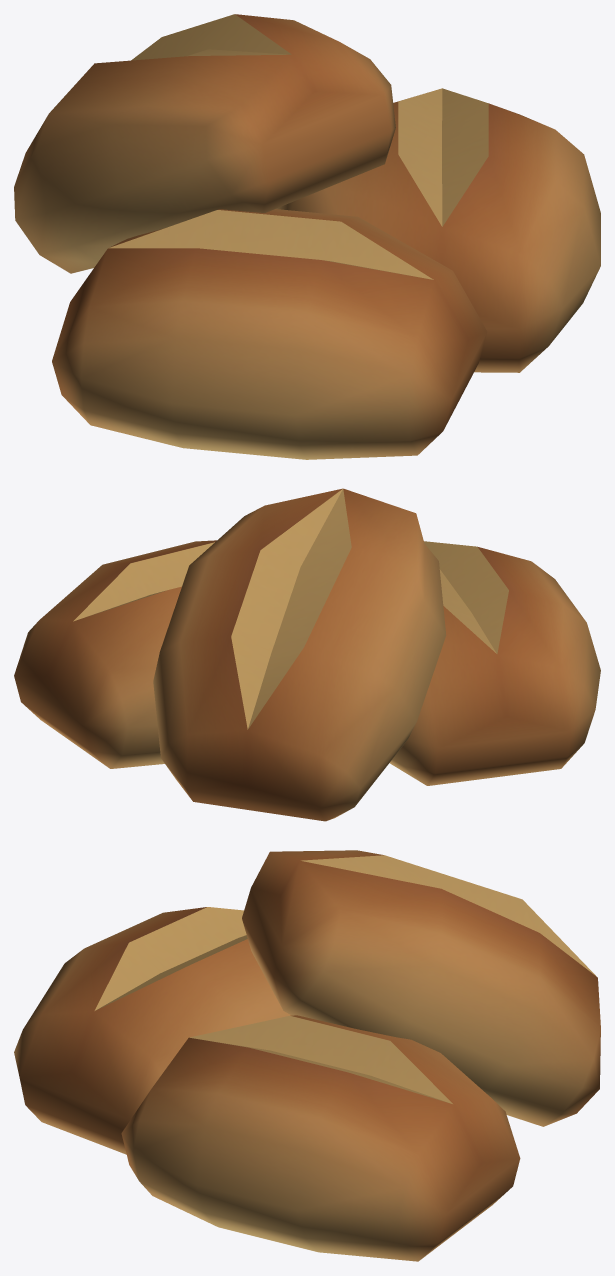
File: breadroll_pile.fbx
The picture shows the model from 3 angles, top to bottom: view 1: azimuth 30°, elevation 25°; view 2: azimuth 150°, elevation 25°; view 3: azimuth 270°, elevation 25°; orthographic projection. The views are drawn at different scales.
Visible parts, largest first — view 1: breadroll_pile; view 2: breadroll_pile; view 3: breadroll_pile.
Boxes of the visible parts, box(x1,y1,x2,y2) form: breadroll_pile: box(14, 14, 600, 459); breadroll_pile: box(14, 488, 600, 821); breadroll_pile: box(14, 850, 600, 1261).
Bounding box in the file's own units: 45.53 × 22.32 × 43.84.
